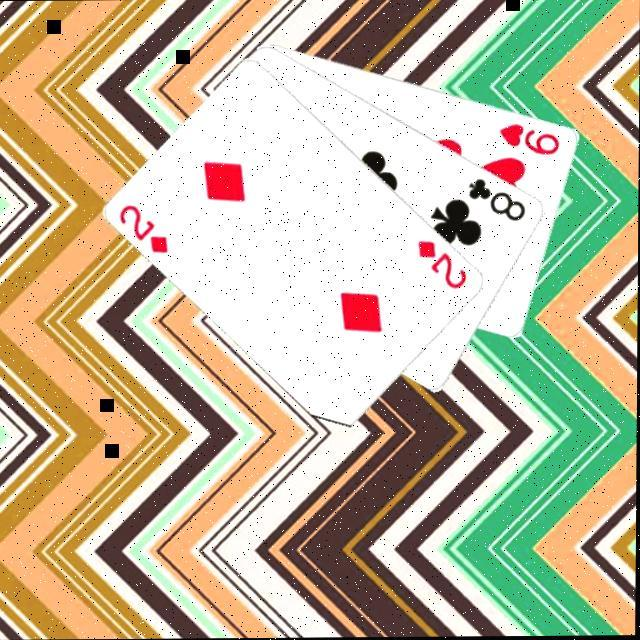2D: (414, 238, 470, 294), (116, 202, 172, 258)
8C: (465, 176, 529, 226)
9H: (496, 121, 562, 159)
